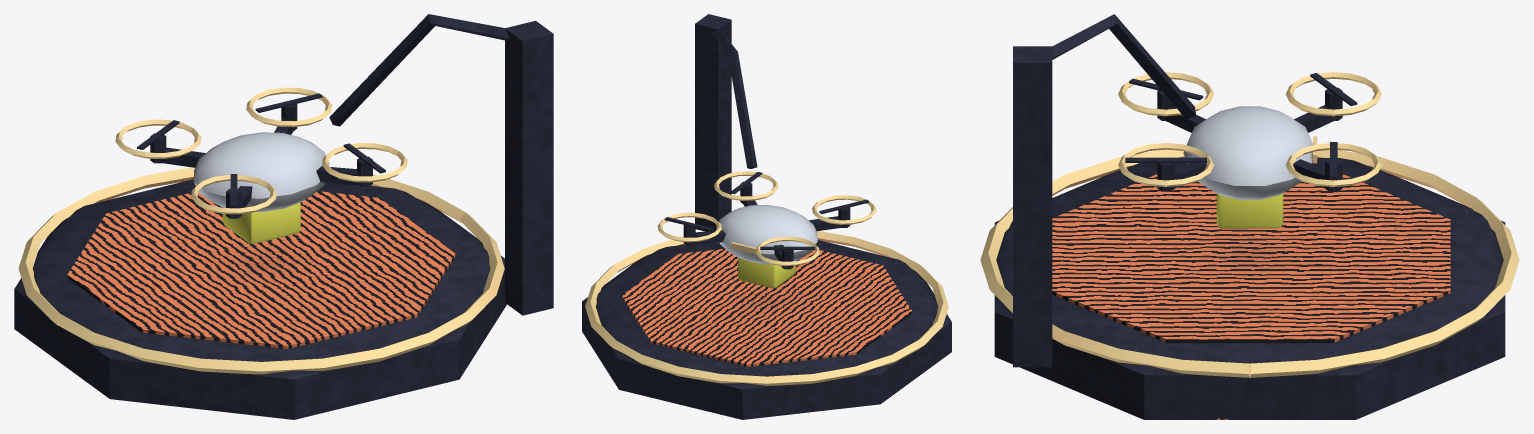
File: drone_dock.fbx
3 views of the same model, side by side, from view 1: azimuth 30°, elevation 25°; view 2: azimuth 150°, elevation 25°; view 3: azimuth 270°, elevation 25° (orthographic). The views are drawn at different scales.
Visible parts, largest first — view 1: drone_dock, drone_dock_glow; view 2: drone_dock, drone_dock_glow; view 3: drone_dock, drone_dock_glow.
Boxes of the visible parts, x1,y1,x2,y2 form: drone_dock: (14,14,553,419); drone_dock_glow: (18,87,504,374); drone_dock: (582,14,951,419); drone_dock_glow: (585,171,948,385); drone_dock: (994,14,1505,419); drone_dock_glow: (980,72,1519,377).
Bounding box in the file's own units: 546 × 397 × 546.
Materials: 1 (1 with a texture image).
